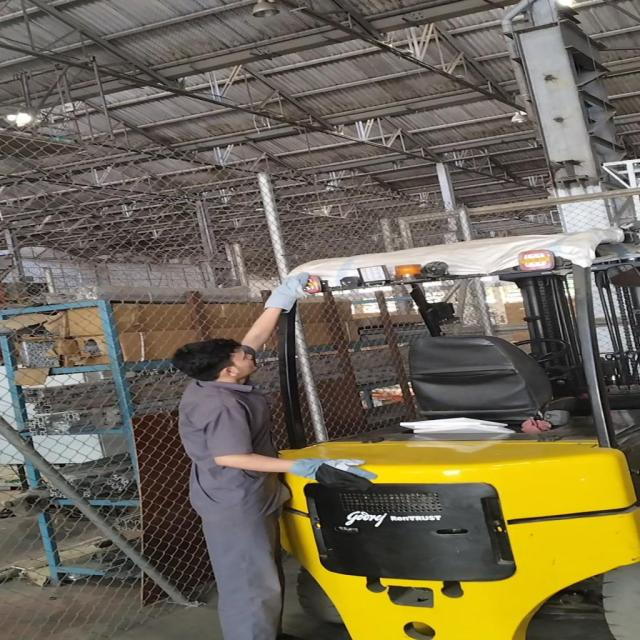Gloves-Detection: (273, 448, 376, 493), (258, 273, 318, 317)
